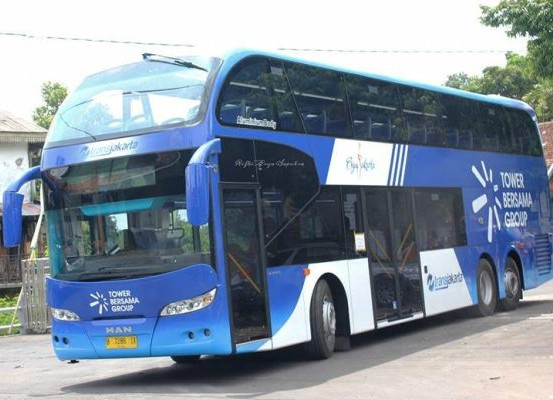plate: (105, 336, 136, 348)
